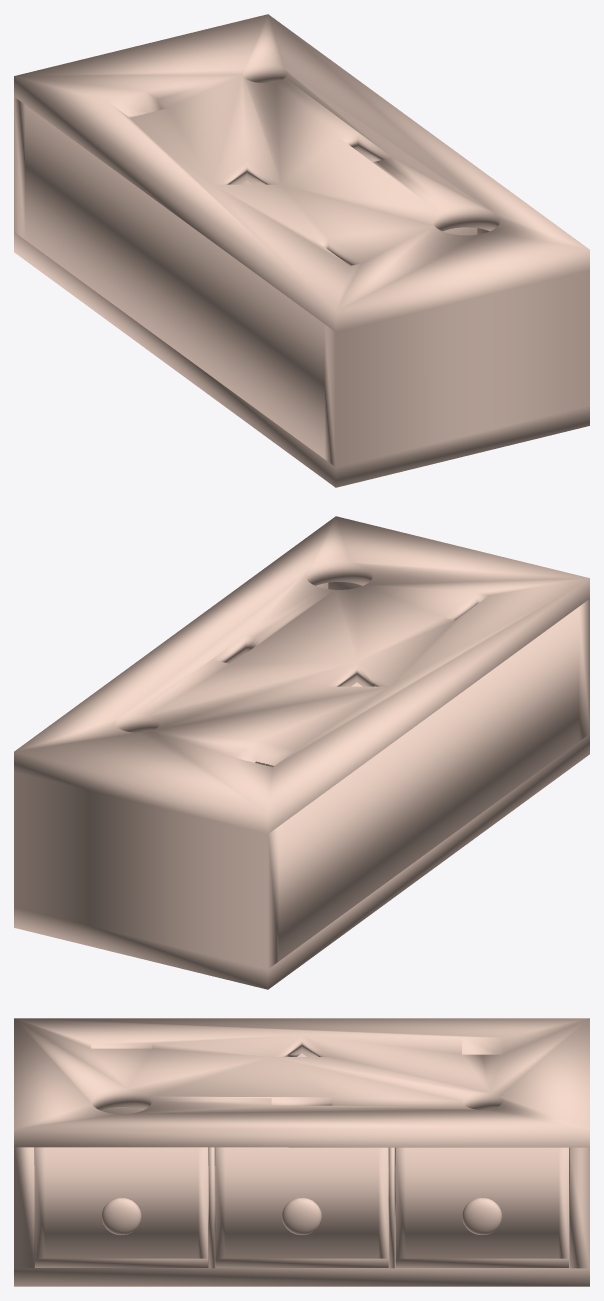
File: montessori_box.fbx
3 views of the same model, one above another, from view 1: azimuth 30°, elevation 25°; view 2: azimuth 150°, elevation 25°; view 3: azimuth 270°, elevation 25° (orthographic). The views are drawn at different scales.
Parts seen in each view (by area): view 1: montessori_box; view 2: montessori_box; view 3: montessori_box, montessori_drawer_1, montessori_drawer_2, montessori_drawer_3, montessori_drawer_2_handle, montessori_drawer_1_handle, montessori_drawer_3_handle.
Boxes of the visible parts, x1=… form: montessori_box: x1=14, y1=14, x2=589, y2=487; montessori_box: x1=14, y1=516, x2=589, y2=989; montessori_box: x1=14, y1=1018, x2=589, y2=1286; montessori_drawer_1: x1=35, y1=1107, x2=208, y2=1267; montessori_drawer_2: x1=215, y1=1053, x2=388, y2=1267; montessori_drawer_3: x1=395, y1=1147, x2=568, y2=1267; montessori_drawer_2_handle: x1=282, y1=1197, x2=321, y2=1234; montessori_drawer_1_handle: x1=101, y1=1198, x2=141, y2=1234; montessori_drawer_3_handle: x1=462, y1=1197, x2=502, y2=1234.
Size of the model in its own units: 14.5 by 8.61 by 28.53.
